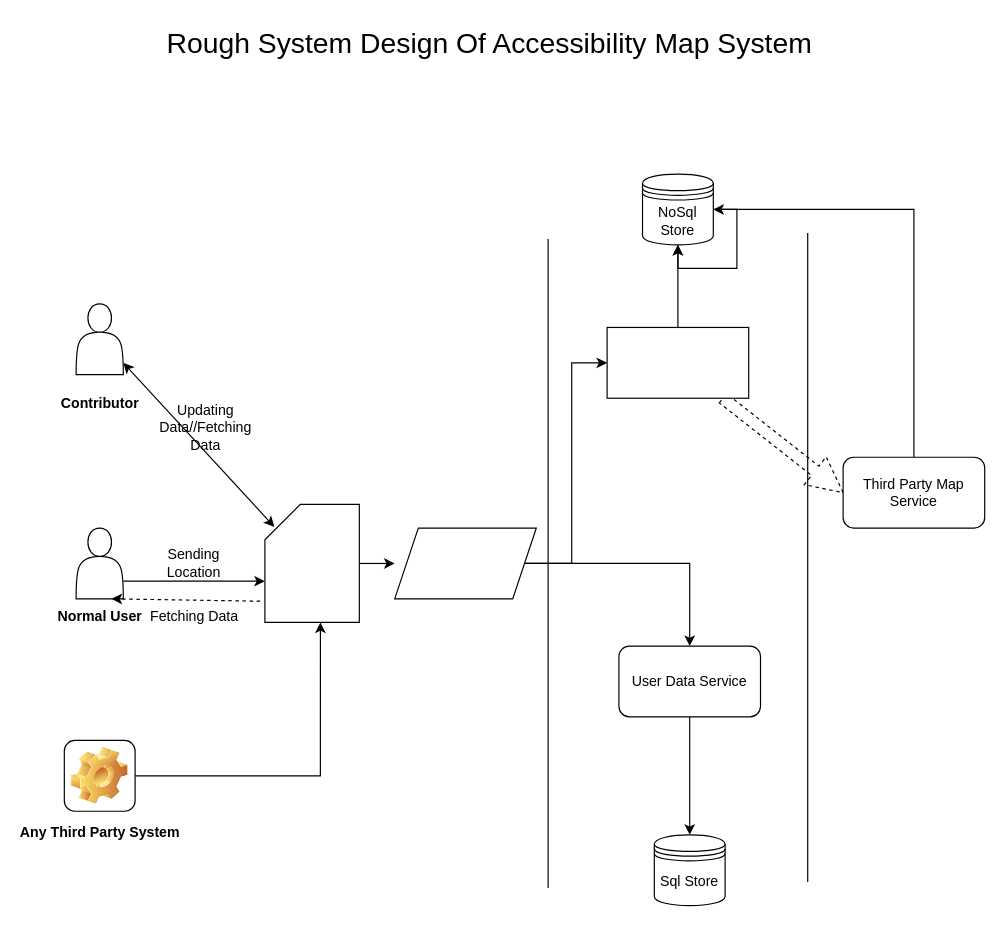
This 1005x926 diagram has some shape labels left out. Each missing label, with the box of its shape:
Accessible Location Data Service: (606, 326, 749, 398)
API Gateway: (394, 527, 536, 599)
Load Balancer: (264, 503, 359, 622)
